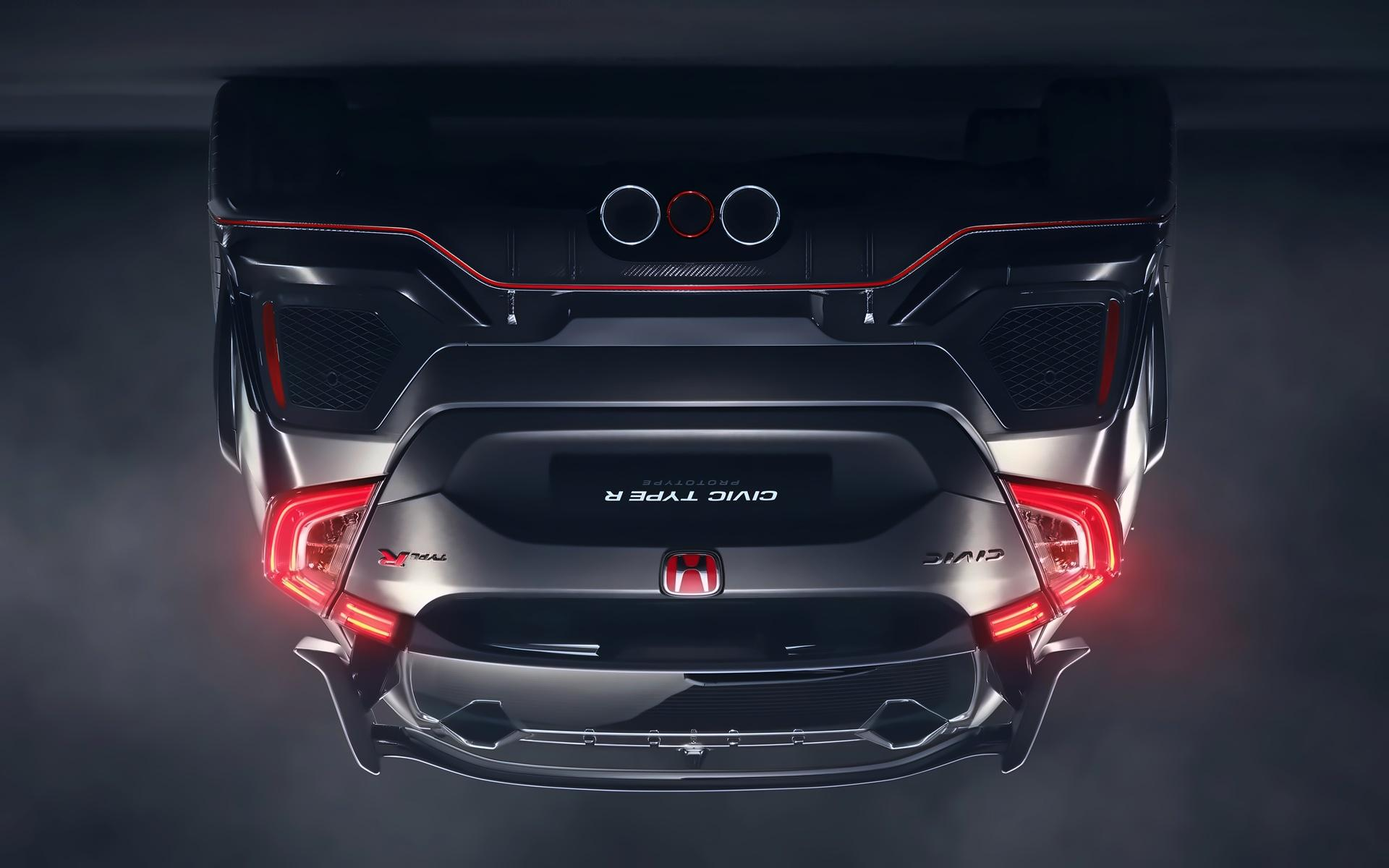Car boot: (326, 396, 1064, 684)
Rear bumper: (201, 150, 1187, 472)
Rear light - -L-: (959, 458, 1129, 656)
Rear light - -R-: (250, 474, 419, 654)
